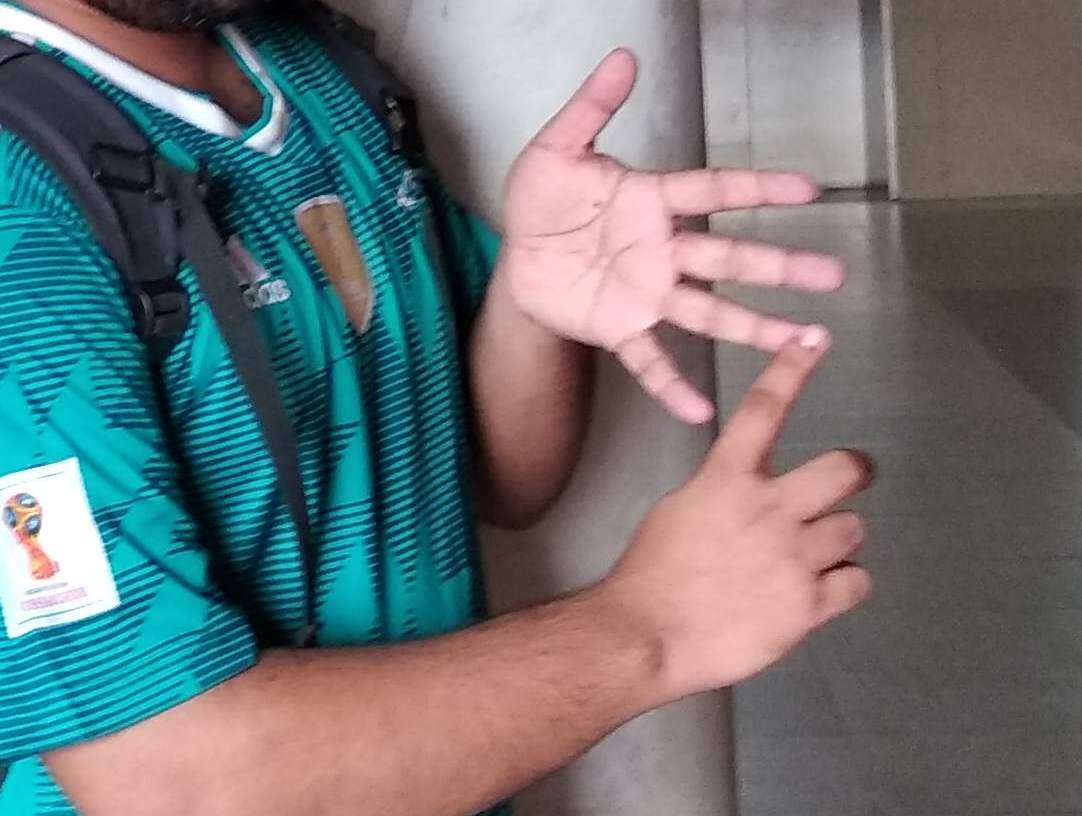e: (588, 156, 861, 629)
